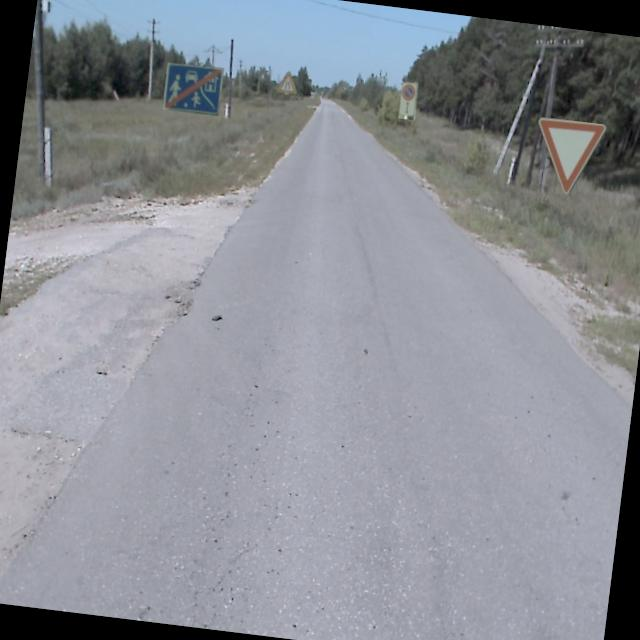road: (0, 98, 631, 640)
